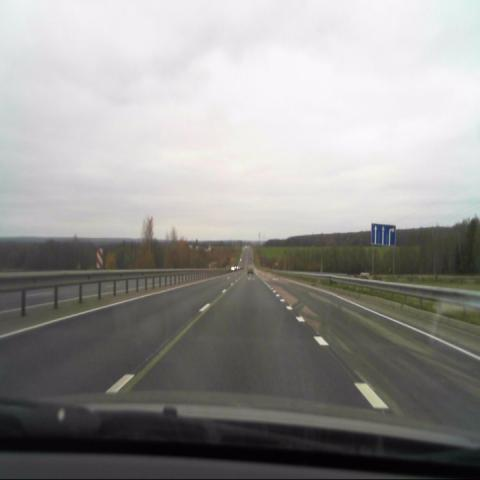5_15_1: (372, 222, 396, 248)
